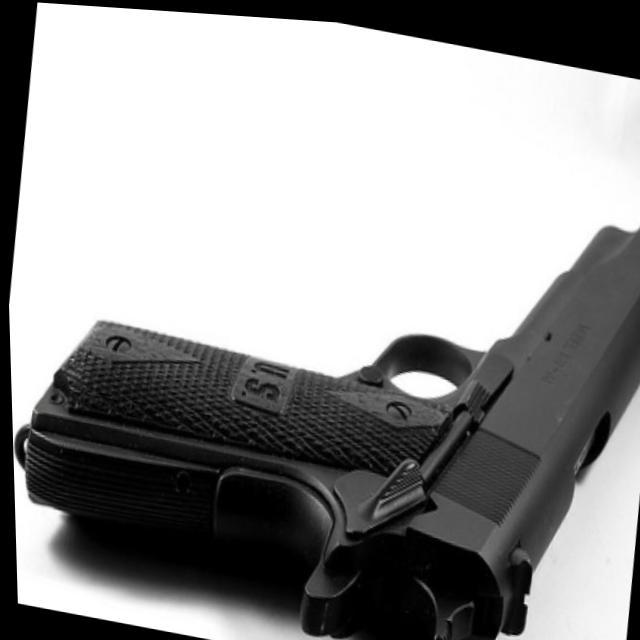weapon: (2, 102, 640, 640)
